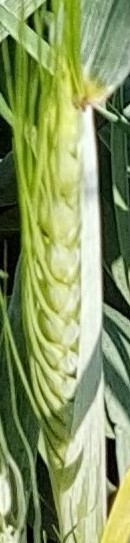Healthy Wheat: (15, 105, 109, 469)
